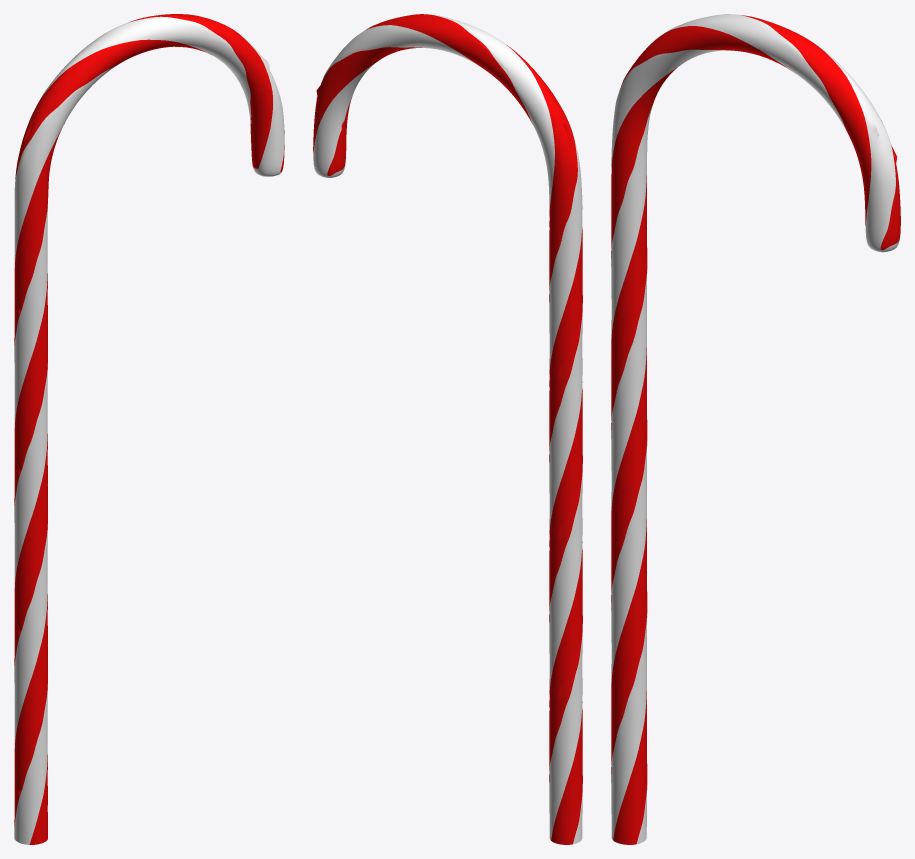
File: CandyCane.obj
3 views of the same model, side by side, from view 1: azimuth 30°, elevation 25°; view 2: azimuth 150°, elevation 25°; view 3: azimuth 330°, elevation 25° (orthographic). The views are drawn at different scales.
Visible parts, largest first — view 1: DL3D_Christmas_Cane; view 2: DL3D_Christmas_Cane; view 3: DL3D_Christmas_Cane.
Part boxes in pixels (box(x1,y1,x2,y2)): DL3D_Christmas_Cane: box(14, 14, 284, 844); DL3D_Christmas_Cane: box(313, 14, 582, 844); DL3D_Christmas_Cane: box(611, 14, 900, 844).
Bounding box in the file's own units: 4.95 × 14.09 × 0.5483.
